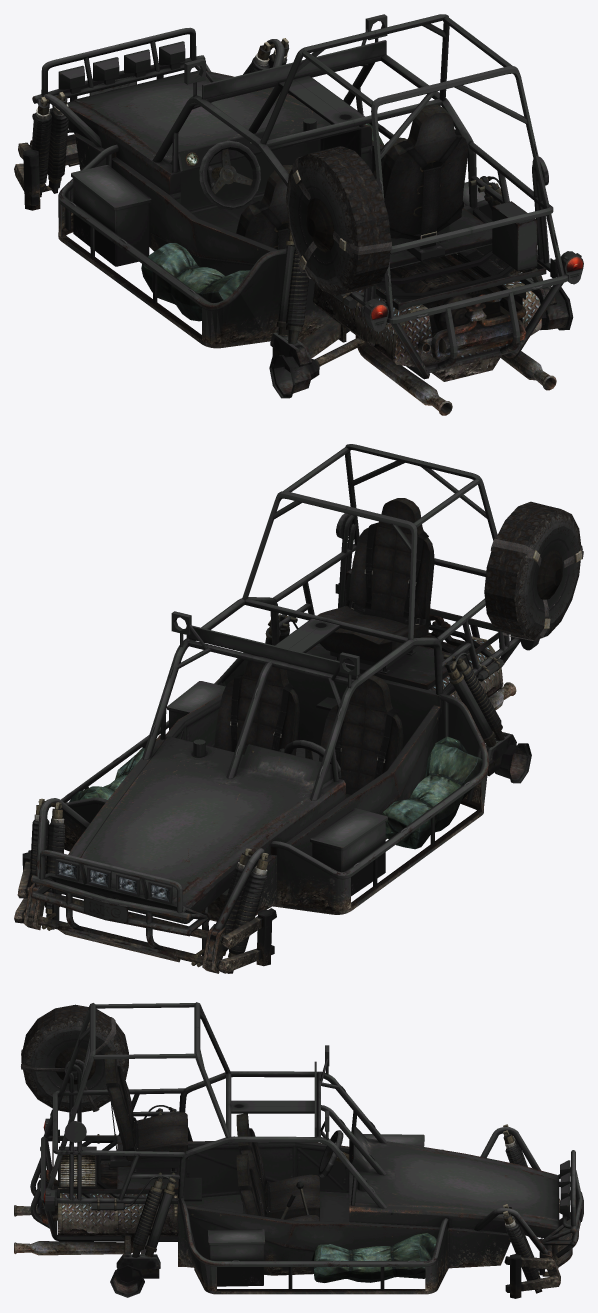
The model's file is chassi.obj.
3 views of the same model, one above another, from view 1: azimuth 30°, elevation 25°; view 2: azimuth 150°, elevation 25°; view 3: azimuth 270°, elevation 25° (orthographic). The views are drawn at different scales.
Parts seen in each view (by area): view 1: Mesh_0020.001; view 2: Mesh_0020.001; view 3: Mesh_0020.001.
Boxes of the visible parts, left/top/right/bottom form: Mesh_0020.001: left=14, top=14, right=583, bottom=415; Mesh_0020.001: left=14, top=444, right=583, bottom=973; Mesh_0020.001: left=14, top=1002, right=583, bottom=1298.
Bounding box in the file's own units: 202 × 189 × 427.
